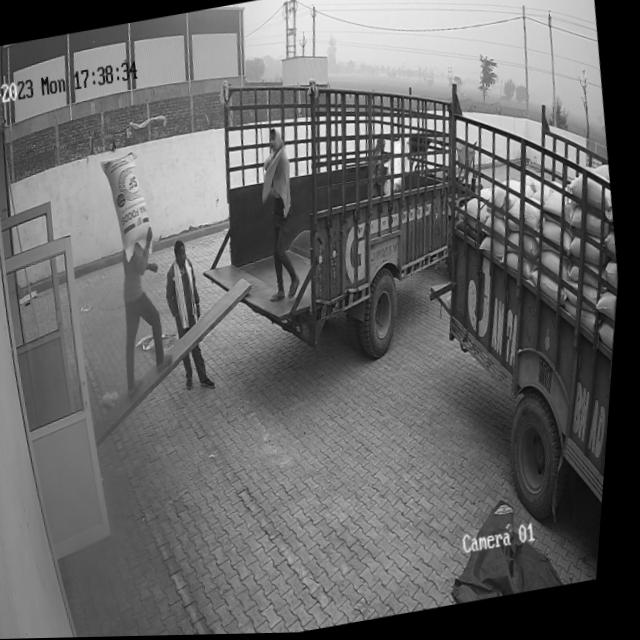sack: (95, 150, 165, 266)
